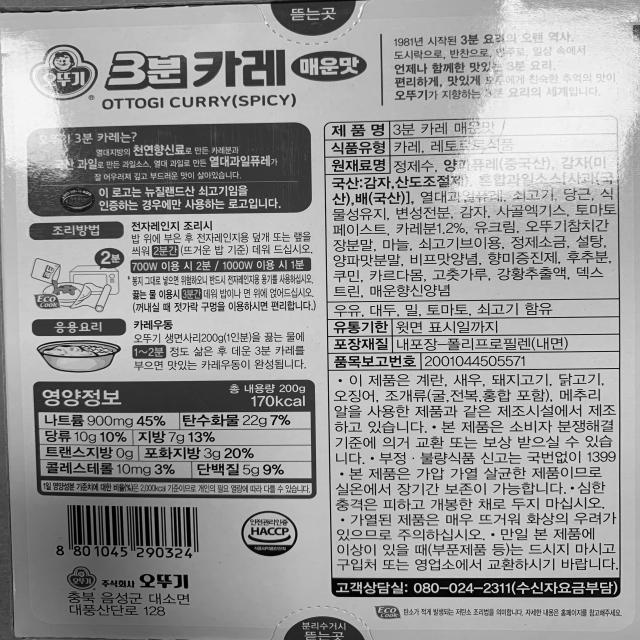Nutrition Label: (18, 376, 331, 503)
